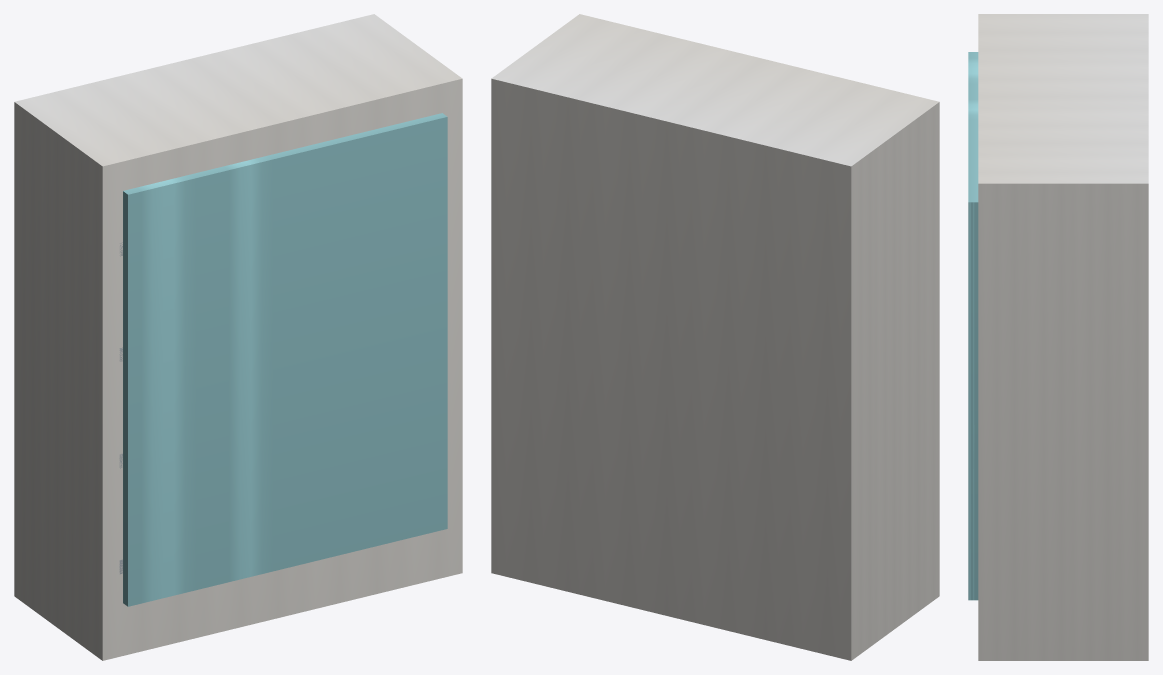
File: shop_fridge.glb
The picture shows the model from 3 angles, left to right: view 1: azimuth 30°, elevation 25°; view 2: azimuth 150°, elevation 25°; view 3: azimuth 270°, elevation 25°; orthographic projection. The views are drawn at different scales.
Visible parts, largest first — view 1: shop_fridge; view 2: shop_fridge; view 3: shop_fridge.
Boxes of the visible parts, left/top/right/bottom form: shop_fridge: left=14, top=14, right=462, bottom=660; shop_fridge: left=491, top=14, right=939, bottom=660; shop_fridge: left=968, top=14, right=1148, bottom=660.
Bounding box in the file's own units: 1.6 × 2.1 × 0.72.
1 material, 1 textured.
